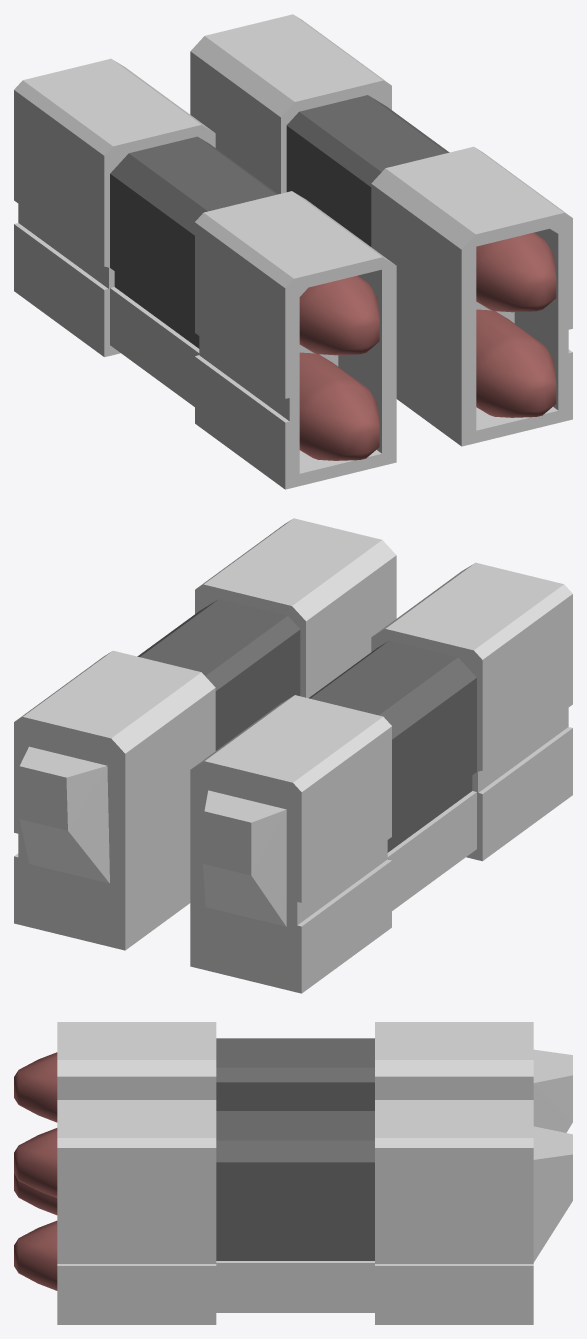
The model's file is MissileTurret_Gun.fbx.
3 renders of one model, top to bottom at view 1: azimuth 30°, elevation 25°; view 2: azimuth 150°, elevation 25°; view 3: azimuth 270°, elevation 25°, orthographic. The views are drawn at different scales.
Visible parts, largest first — view 1: Gun.001; view 2: Gun.001; view 3: Gun.001.
Part boxes in pixels (x1,y1,x2,y2): Gun.001: (14,14,572,489); Gun.001: (14,518,572,993); Gun.001: (14,1022,572,1324).
Size of the model in its own units: 111 by 76.72 by 212.
